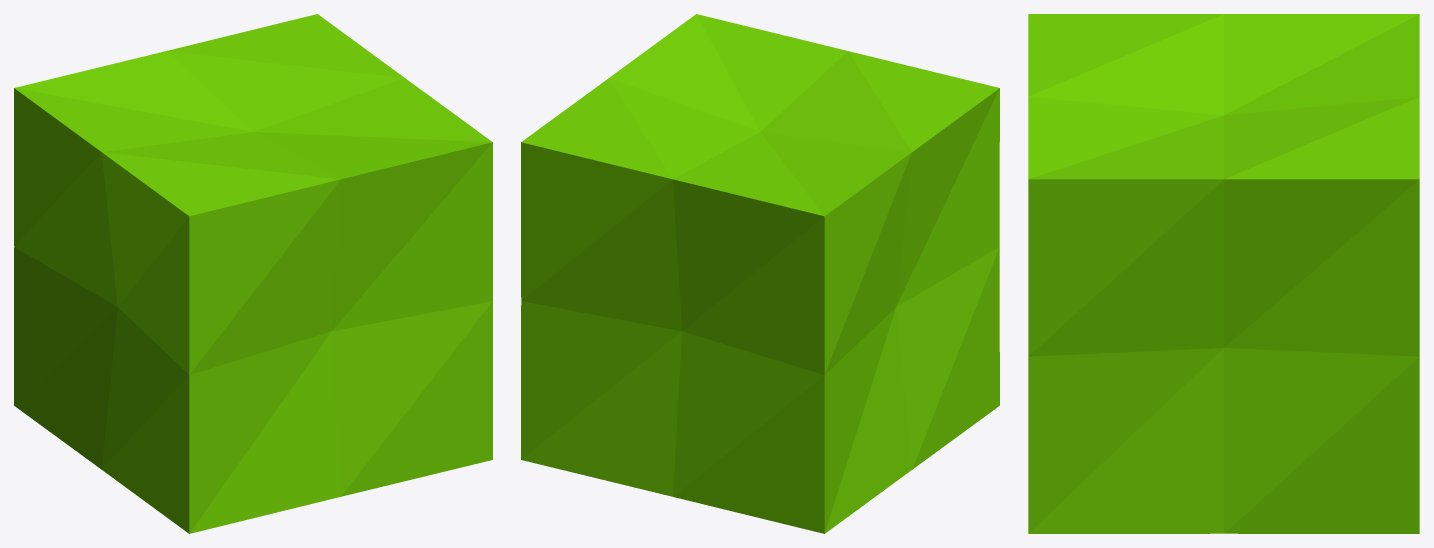
File: 001_basinplot_basic-1.obj
3 views of the same model, side by side, from view 1: azimuth 30°, elevation 25°; view 2: azimuth 150°, elevation 25°; view 3: azimuth 270°, elevation 25° (orthographic). The views are drawn at different scales.
Parts seen in each view (by area): view 1: surf_1; view 2: surf_1; view 3: surf_1.
Part boxes in pixels (box(x1,y1,x2,y2)): surf_1: box(14, 14, 492, 533); surf_1: box(521, 14, 999, 533); surf_1: box(1028, 14, 1419, 533).
Bounding box in the file's own units: 3.98 × 3.98 × 3.98.
